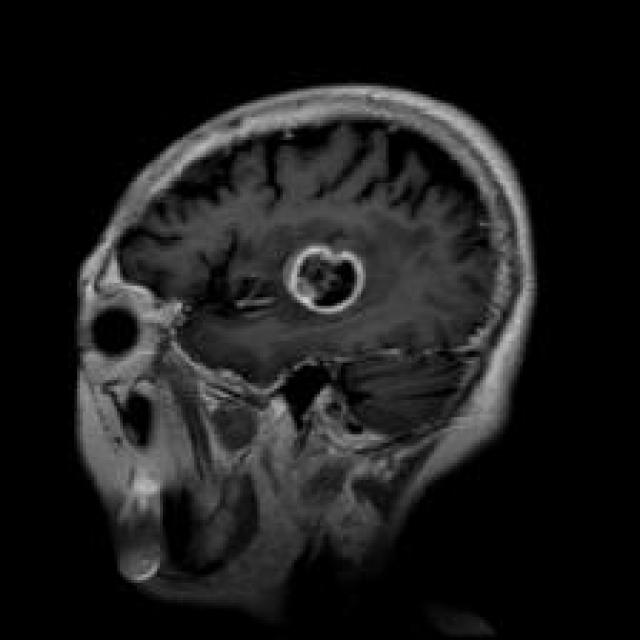glioma_tumor: (266, 228, 399, 329)
